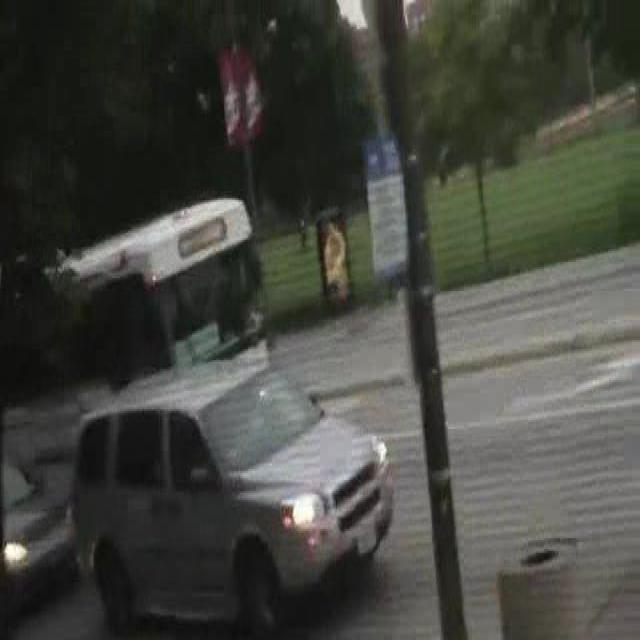other: (268, 476, 324, 543), (348, 411, 398, 485), (2, 531, 36, 572)
